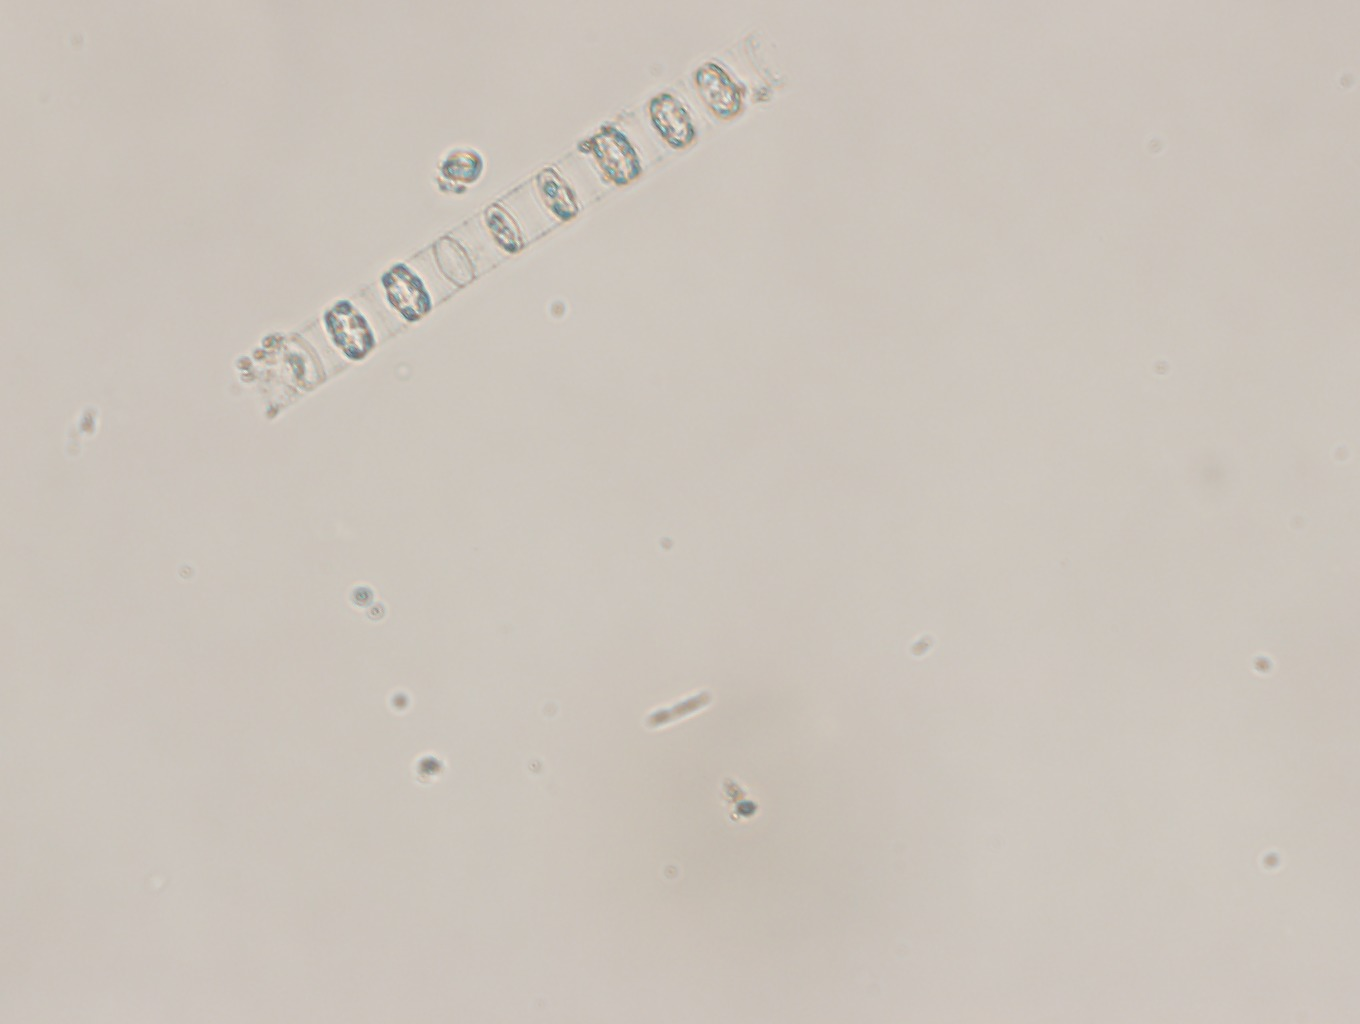skeletonema: (219, 24, 785, 426)
